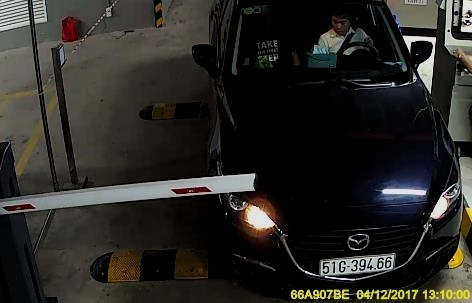plate: (318, 250, 398, 277)
